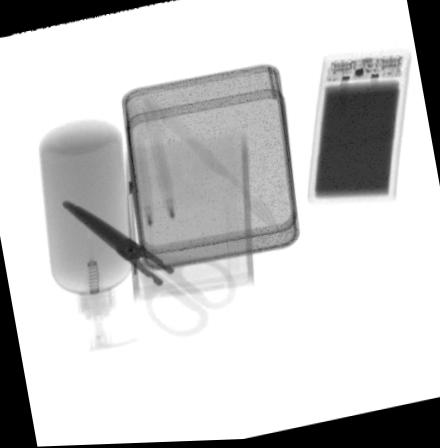Powerbank: (304, 57, 412, 206)
Scissors: (58, 197, 237, 339)
